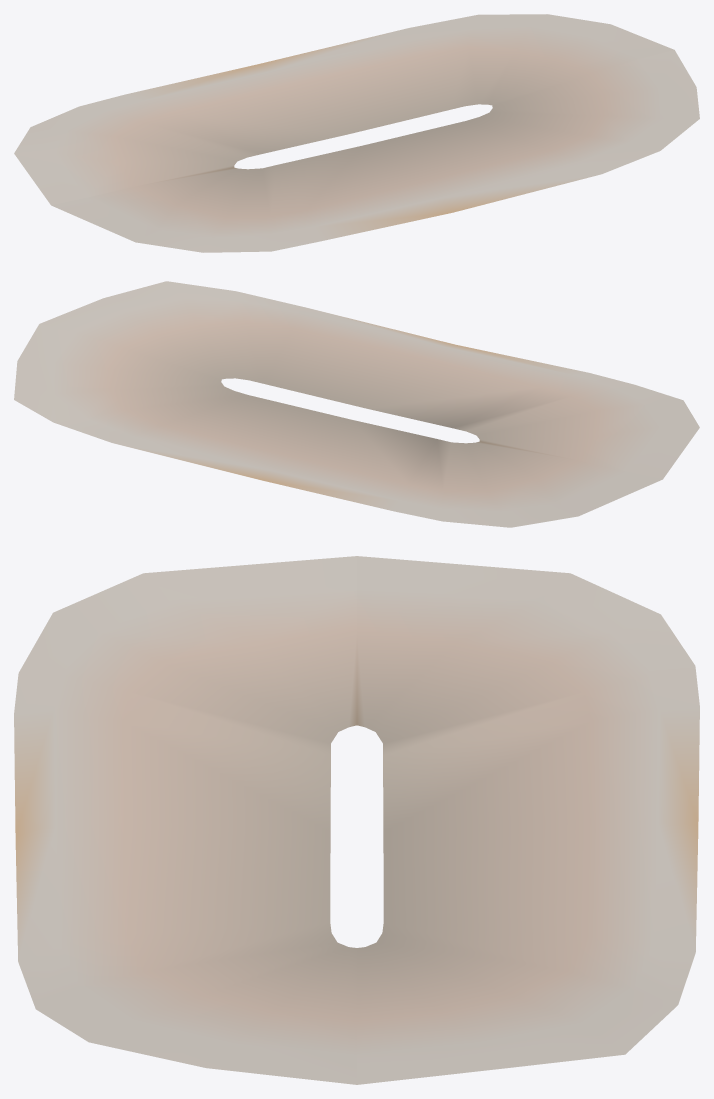
Rendered from Sand 1.fbx.
The picture shows the model from 3 angles, top to bottom: view 1: azimuth 30°, elevation 25°; view 2: azimuth 150°, elevation 25°; view 3: azimuth 270°, elevation 25°; orthographic projection. The views are drawn at different scales.
Visible parts, largest first — view 1: Quicksand_01; view 2: Quicksand_01; view 3: Quicksand_01.
Boxes of the visible parts, <box> form: Quicksand_01: <box>14,14,699,252</box>; Quicksand_01: <box>14,281,699,527</box>; Quicksand_01: <box>14,556,699,1084</box>.
Bounding box in the file's own units: 3188 × 68.13 × 1728.
